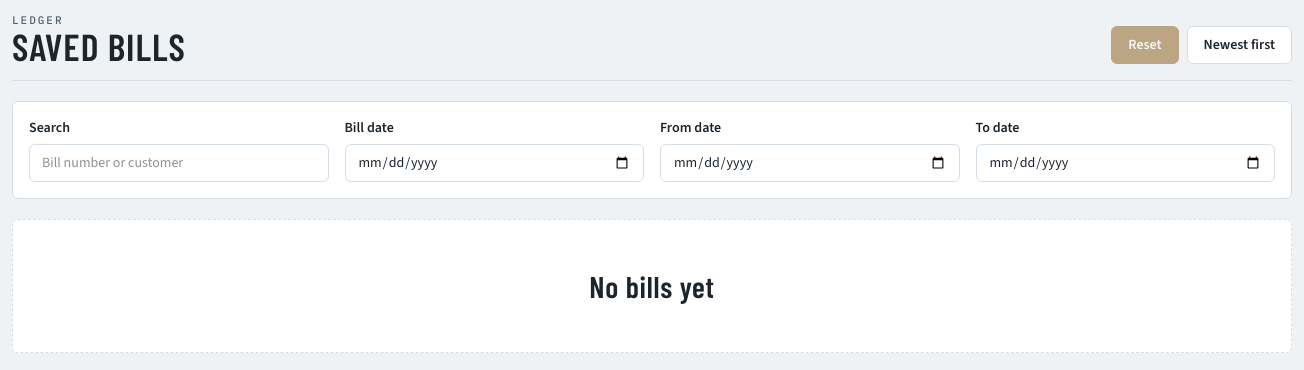
shows No matching bills when a search finds nothing
Expected: the text "No bills yet" is shown, 589,268 -> 715,304
Step 1. Type "zzz" into the search field labelled "Search" → (179, 163), box 29,144 -> 328,182
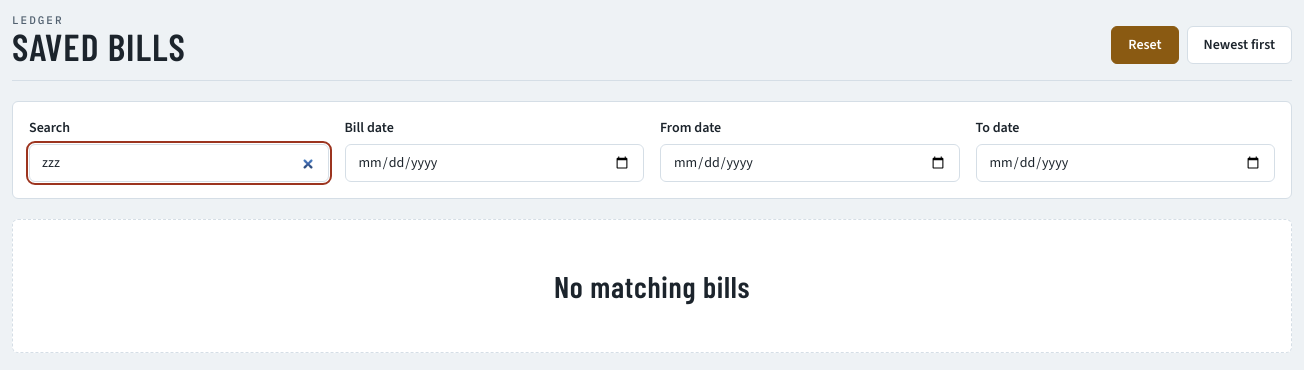
Expected: the text "No matching bills" is shown, 554,268 -> 750,304
